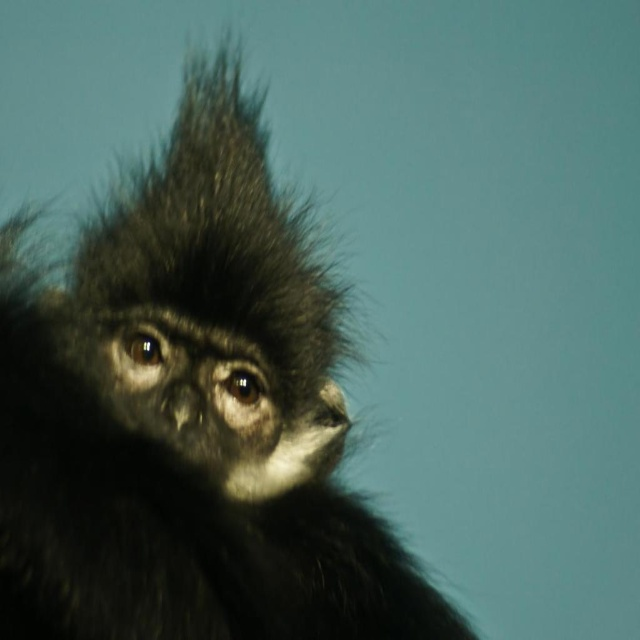Monkey: (0, 20, 496, 640)
